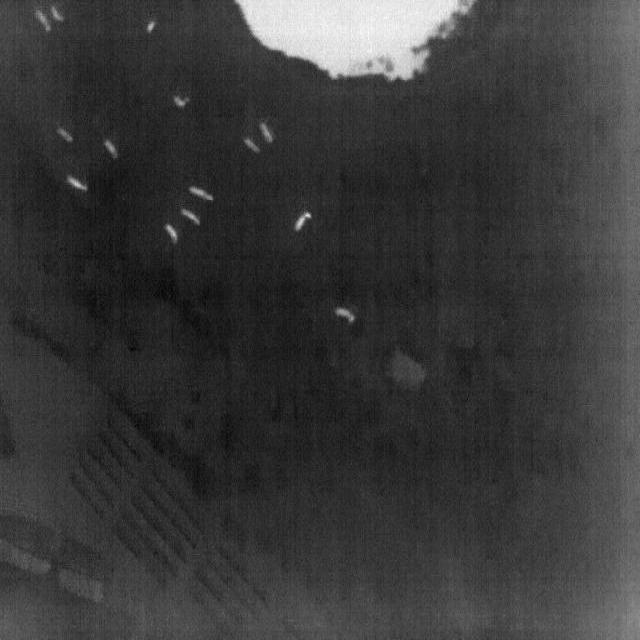deer: (292, 212, 313, 232), (34, 9, 52, 31), (334, 307, 356, 323), (66, 175, 88, 191), (189, 186, 213, 200), (181, 209, 200, 226), (164, 224, 180, 244), (244, 137, 262, 154), (56, 127, 74, 142), (260, 123, 274, 142), (104, 141, 119, 158), (173, 96, 190, 108), (50, 7, 64, 21), (146, 21, 158, 34)
